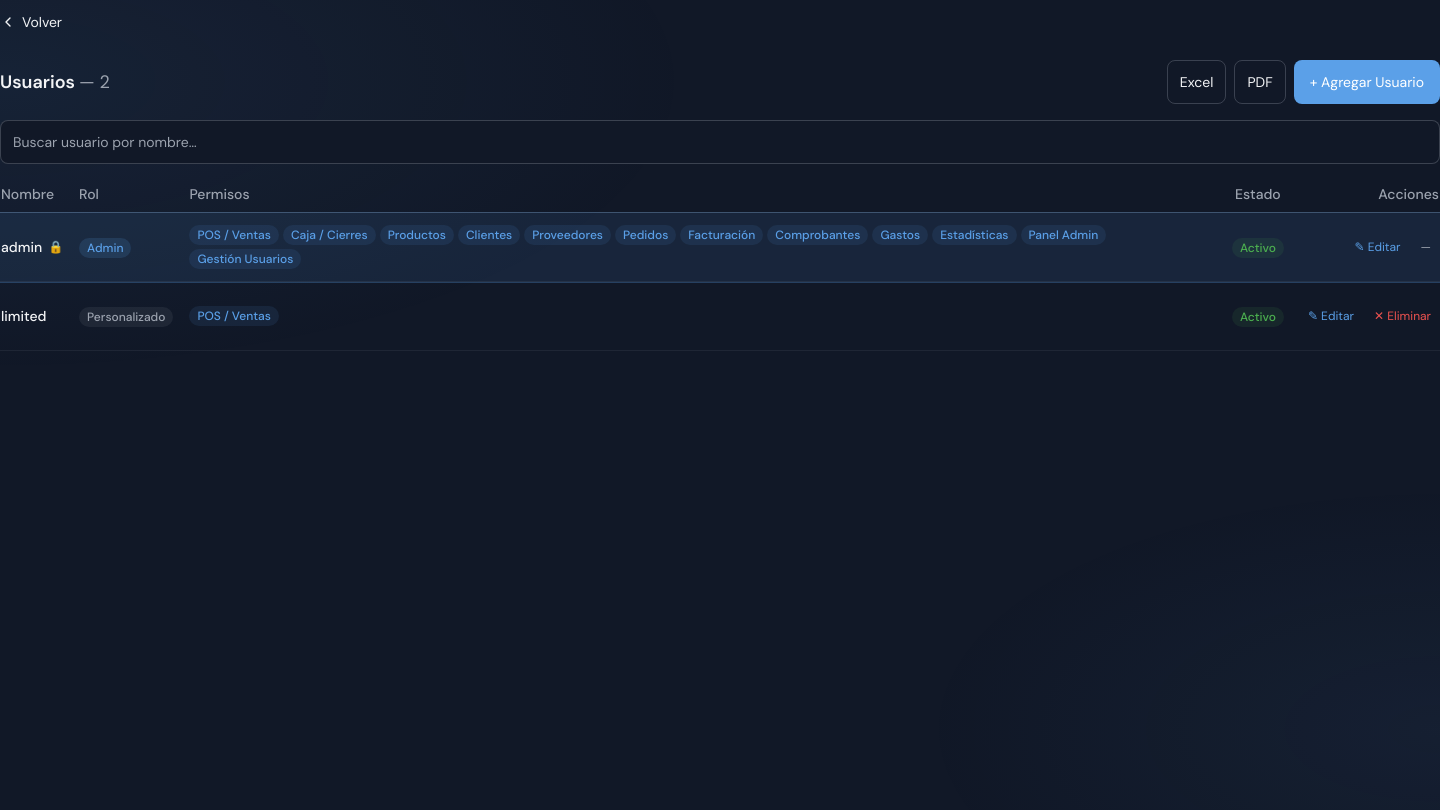
UserManagementPage › edits user permissions successfully
# Click edit on "limited" user — pick first between desktop table + mobile card
Click the button with aria-label "editar limited". click: (1331,316)
box: left=1300, top=294, right=1362, bottom=338
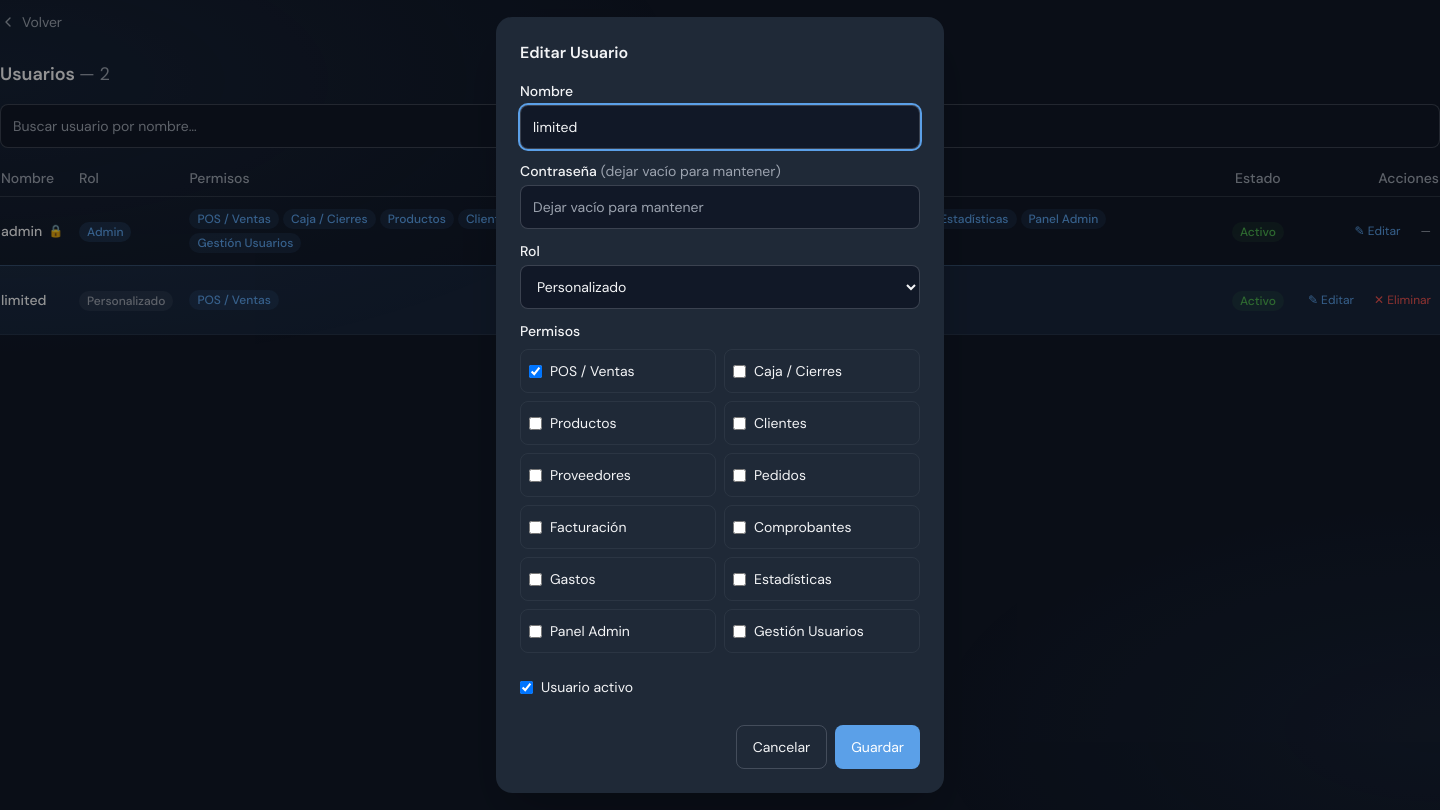
Click the checkbox labelled "POS / Ventas". click: (536,371)
box: left=529, top=364, right=542, bottom=378
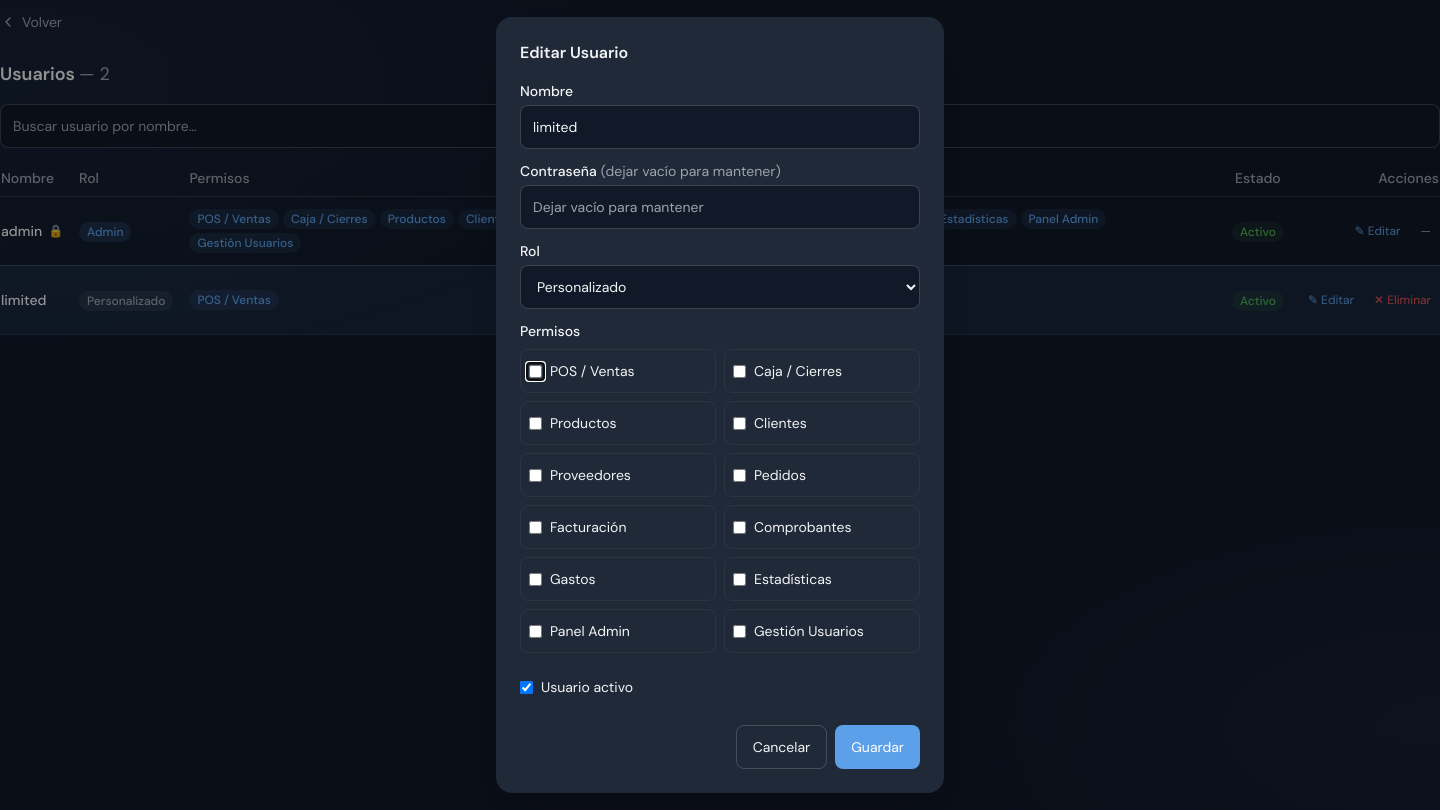
# Check "Clientes"
Click the checkbox labelled "Clientes". click: (740,423)
box: left=733, top=416, right=746, bottom=430
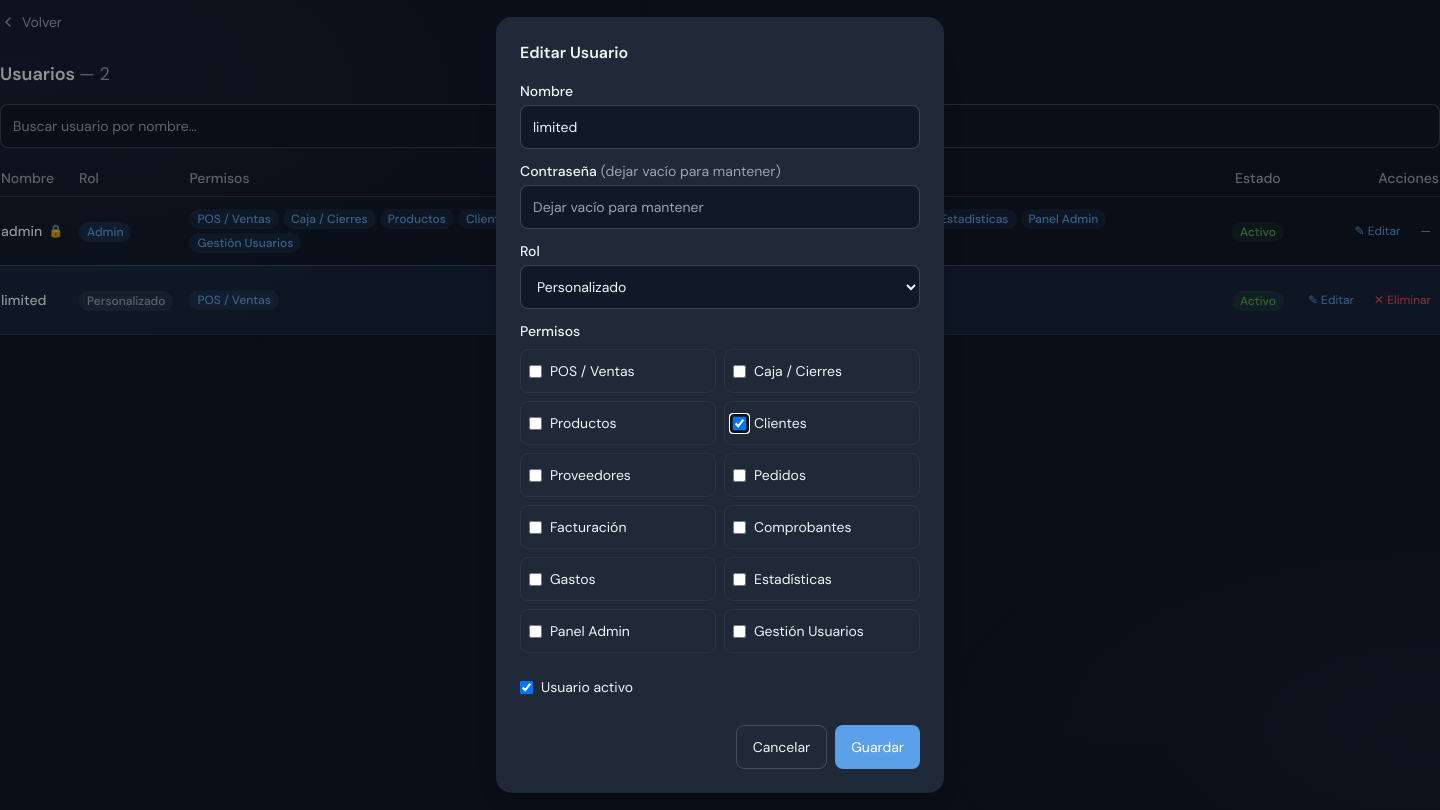
Click the button "Guardar". click: (878,747)
box: left=835, top=725, right=920, bottom=769
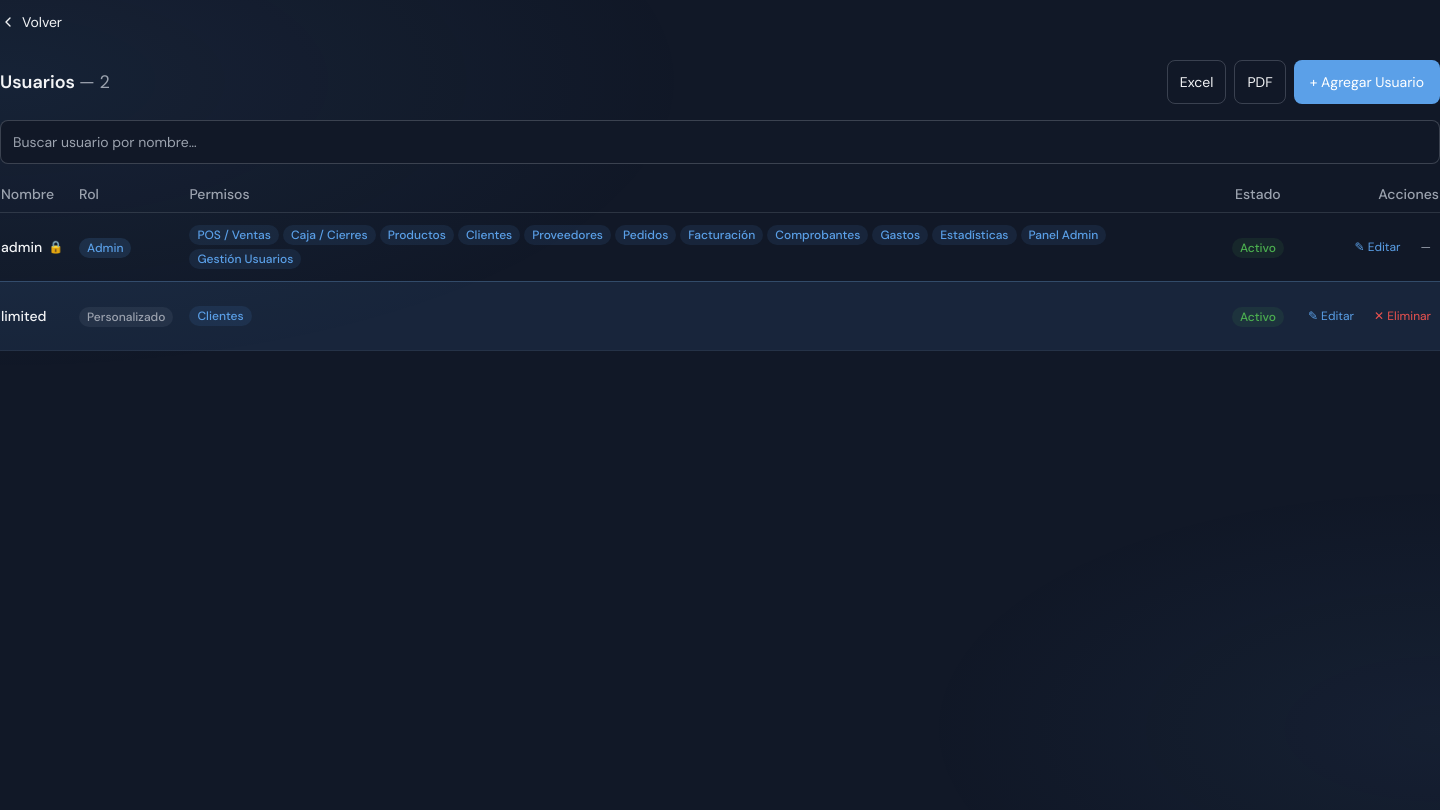
Expected: the row "limited Personalizado Clientes Activo ✎ Editar ✕ Eliminar" is shown, left=0, top=282, right=1439, bottom=350
Result: the row no longer shows "POS / Ventas"
